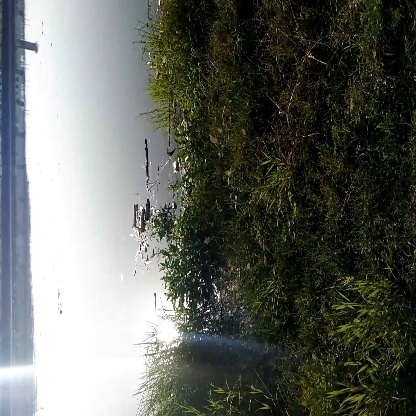grass: (339, 285, 411, 413)
